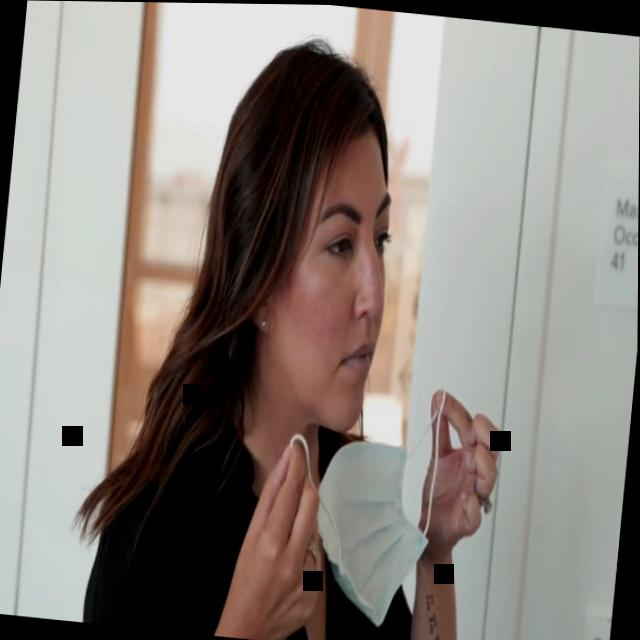NO-Mask: (256, 131, 400, 436)
